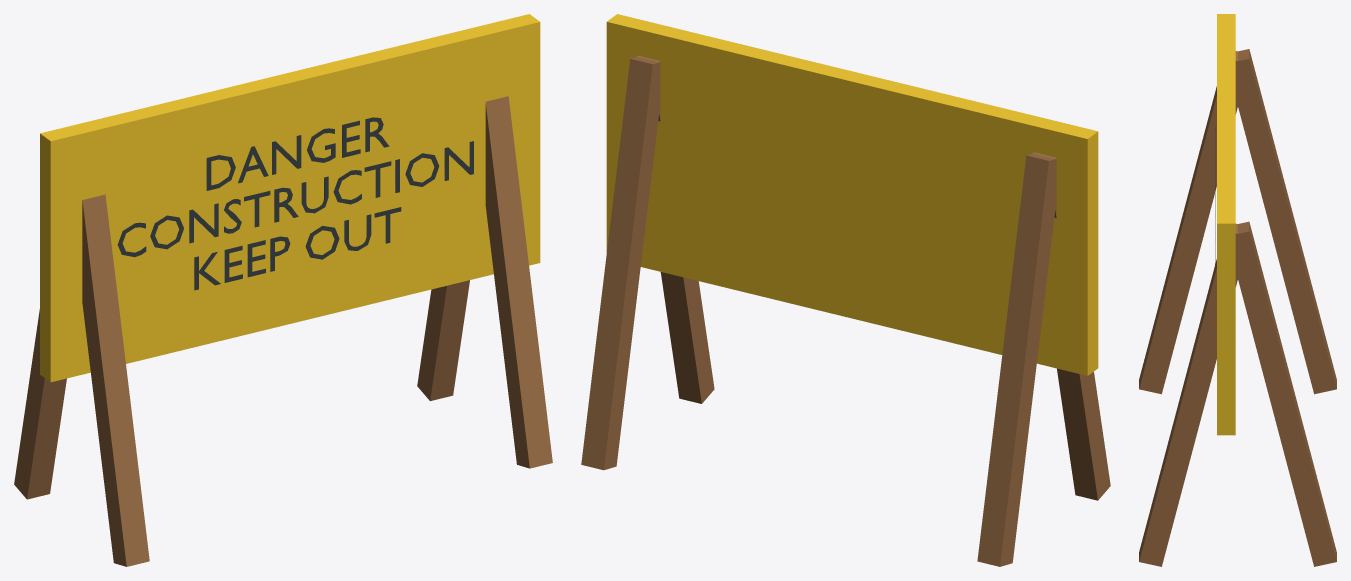
Rendered from TR3_Construction_WarningBoard.glb.
The picture shows the model from 3 angles, left to right: view 1: azimuth 30°, elevation 25°; view 2: azimuth 150°, elevation 25°; view 3: azimuth 270°, elevation 25°; orthographic projection. The views are drawn at different scales.
Parts seen in each view (by area): view 1: TR3_Construction_WarningBoard; view 2: TR3_Construction_WarningBoard; view 3: TR3_Construction_WarningBoard.
Boxes of the visible parts, x1,y1,x2,y2 form: TR3_Construction_WarningBoard: (14, 14, 552, 566); TR3_Construction_WarningBoard: (581, 14, 1110, 566); TR3_Construction_WarningBoard: (1139, 14, 1336, 566).
Bounding box in the file's own units: 1.7 × 1.35 × 0.6778.
